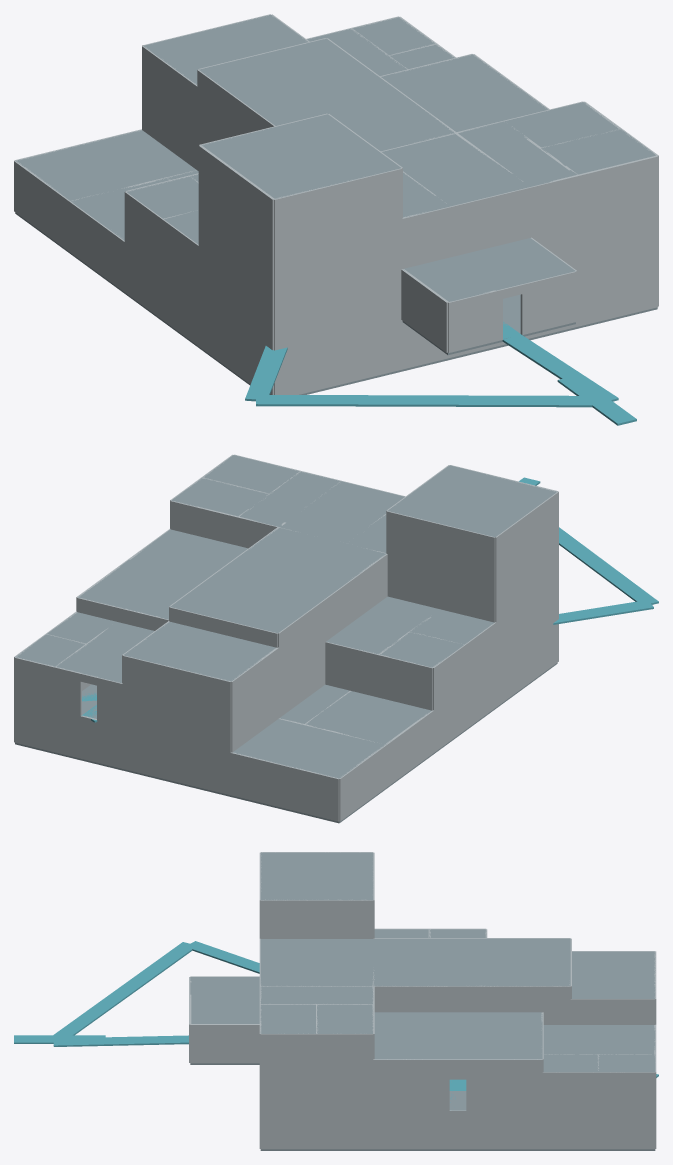
The model's file is rough-shell.glb.
3 views of the same model, one above another, from view 1: azimuth 30°, elevation 25°; view 2: azimuth 150°, elevation 25°; view 3: azimuth 270°, elevation 25° (orthographic). The views are drawn at different scales.
Parts seen in each view (by area): view 1: Ceiling cap nave, Ceiling cap belfry, Wall crypt-memorial S, Ceiling cap chapel, Wall vault-west-a W, Wall belfry S, Wall tower-stair S, Wall crypt-entry S, Ceiling cap chancel, Wall chancel W, Ceiling cap choir.001, Wall crypt-stair S (+44 smaller); view 2: Wall vault-north N, Ceiling cap nave, Wall chancel N, Ceiling cap chapel, Ceiling cap belfry, Wall nave W, Ceiling cap chancel, Wall vault-west-a W, Wall belfry N, Wall tower-stair N, Wall chancel W, Ceiling cap choir.001 (+40 smaller); view 3: Ceiling cap nave, Ceiling cap chapel, Wall vault-east E, Ceiling cap belfry, Wall belfry E, Wall crypt-entry E, Wall crypt-stair E, Ceiling cap chancel, Wall chapel E, Wall chapel E.001, Wall vault-north E, Wall nave E (+27 smaller).
Boxes of the visible parts, x1,y1,x2,y2 form: Ceiling cap nave: (199,38,454,151); Ceiling cap belfry: (201,114,401,198); Wall crypt-memorial S: (274,320,466,394); Ceiling cap chapel: (381,54,548,131); Wall vault-west-a W: (69,201,198,345); Wall belfry S: (274,168,402,249); Wall tower-stair S: (274,219,402,300); Wall crypt-entry S: (532,207,658,276); Ceiling cap chancel: (143,15,308,84); Wall chancel W: (142,46,197,169); Ceiling cap choir.001: (388,139,521,201); Wall crypt-stair S: (530,257,658,337); Wall vault-north N: (14,700,339,821); Ceiling cap nave: (170,527,386,633); Wall chancel N: (122,655,231,752); Ceiling cap chapel: (78,529,247,619); Ceiling cap belfry: (387,465,557,537); Wall nave W: (278,579,352,718); Ceiling cap chancel: (123,622,275,681); Wall vault-west-a W: (386,665,496,786); Wall belfry N: (386,511,495,579); Wall tower-stair N: (387,554,495,622); Wall chancel W: (231,647,278,752); Ceiling cap choir.001: (285,486,398,538); Ceiling cap nave: (373,938,570,986); Ceiling cap chapel: (374,1012,542,1059); Wall vault-east E: (373,1110,570,1149); Ceiling cap belfry: (260,852,373,900); Wall belfry E: (260,899,373,938); Wall crypt-entry E: (260,1072,373,1110); Wall crypt-stair E: (260,1111,373,1149); Ceiling cap chancel: (572,951,655,998); Wall chapel E: (466,1059,542,1110); Wall chapel E.001: (373,1059,449,1110); Wall vault-north E: (570,1111,655,1149); Wall nave E: (466,985,570,1024).
Bounding box in the file's own units: 28.54 × 12.16 × 45.76.
